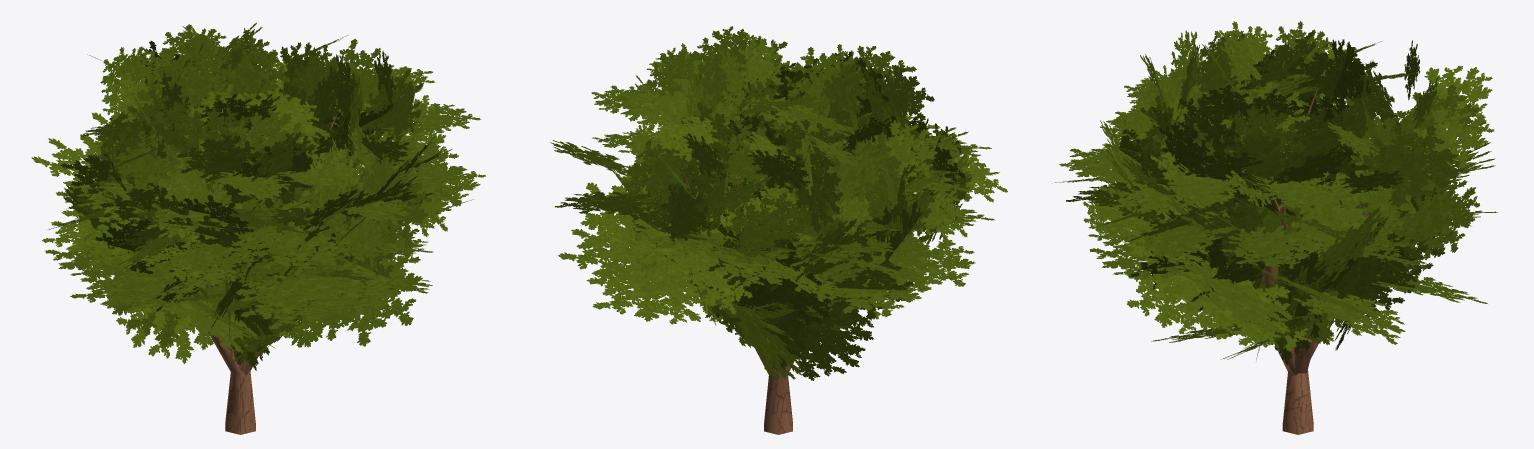
The model's file is StraightBush.fbx.
The picture shows the model from 3 angles, left to right: view 1: azimuth 30°, elevation 25°; view 2: azimuth 150°, elevation 25°; view 3: azimuth 270°, elevation 25°; orthographic projection. The views are drawn at different scales.
Parts seen in each view (by area): view 1: StraightBushLeaves_LOD0, StraightBush_LOD0; view 2: StraightBushLeaves_LOD0, StraightBush_LOD0; view 3: StraightBushLeaves_LOD0, StraightBush_LOD0.
Part boxes in pixels (x1,y1,x2,y2): StraightBushLeaves_LOD0: [31, 22, 485, 370]; StraightBush_LOD0: [167, 101, 364, 434]; StraightBushLeaves_LOD0: [550, 26, 1007, 380]; StraightBush_LOD0: [683, 102, 875, 434]; StraightBushLeaves_LOD0: [1052, 21, 1498, 365]; StraightBush_LOD0: [1222, 70, 1371, 434].
Size of what is drawn, in the model's own units: 118 by 101 by 114.
